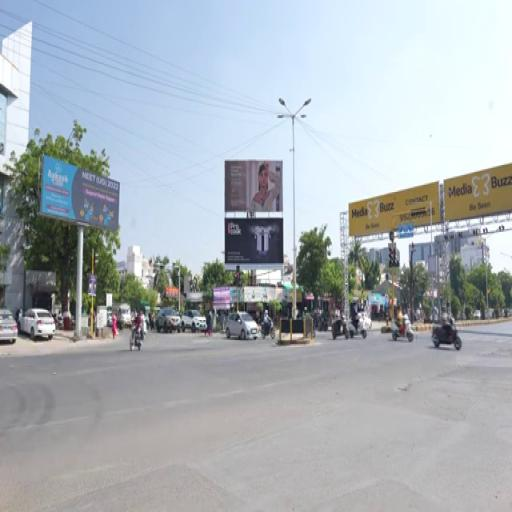Car: (20, 309, 55, 339), (226, 312, 258, 339), (0, 309, 18, 344), (156, 308, 180, 332), (181, 311, 206, 332), (117, 304, 132, 327)
